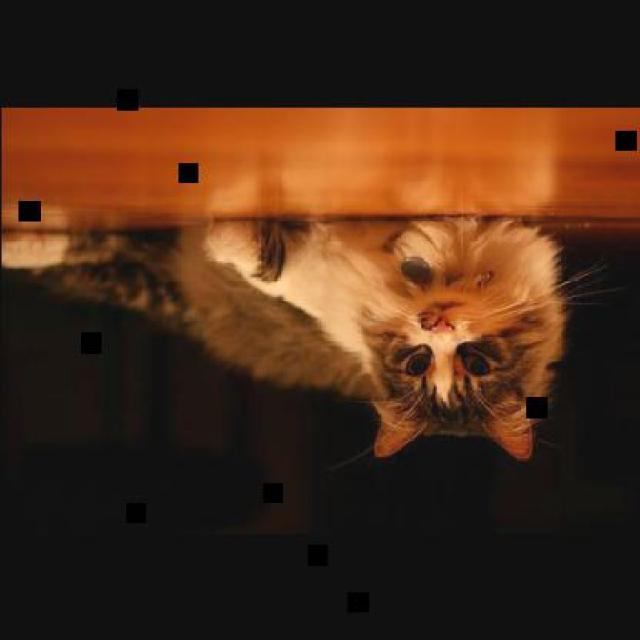unauthorized: (11, 213, 617, 462)
